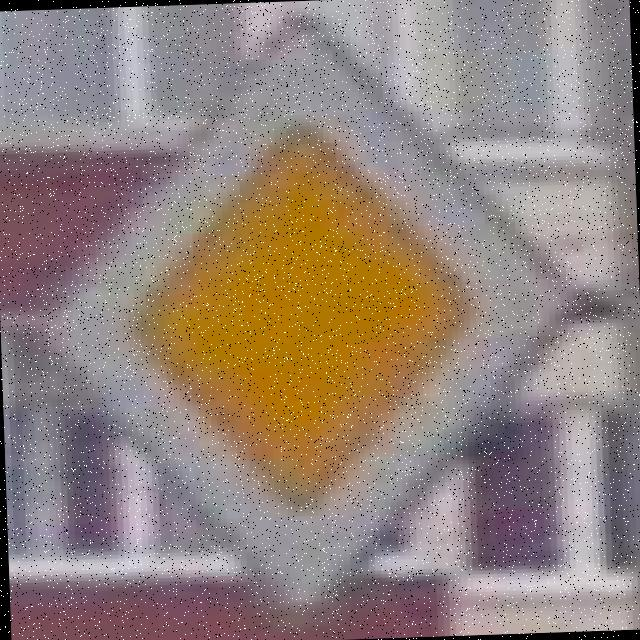Droga z pierwszenstwem: (32, 2, 595, 620)
